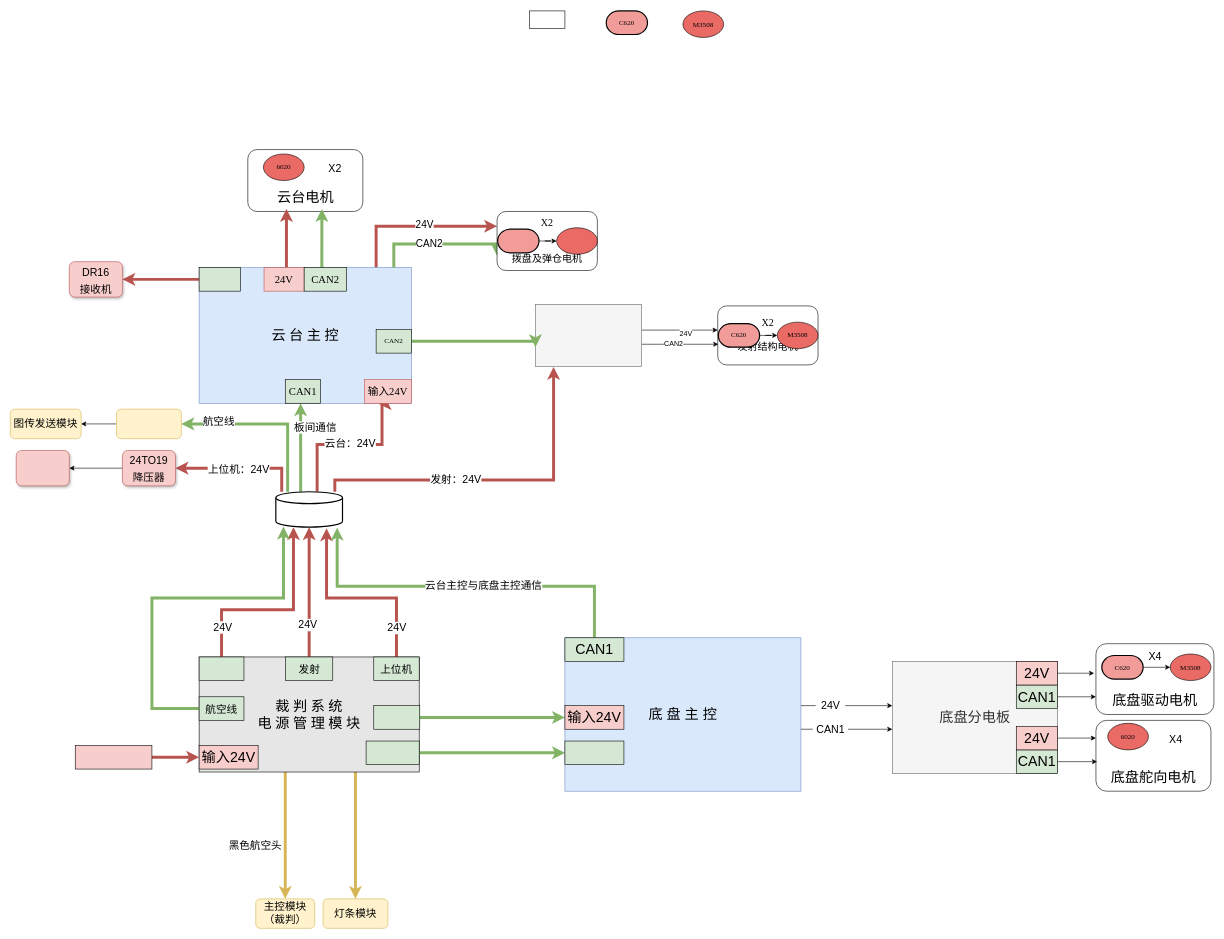
Some shapes in this 1224 by 939 pixel diagram are drawn without their labels. Each missing label, with the centre of its shape:
C610: (x=518, y=240)
DBUS: (x=219, y=279)
M2006: (x=576, y=240)
NUC 上位机: (x=43, y=469)
TB47电池: (x=113, y=757)
USART1: (x=594, y=752)
云台: (x=221, y=668)
发射机构分电板: (x=588, y=335)
底盘: (x=396, y=717)
测速模块: (x=148, y=424)
滑环: (x=309, y=509)
裁判串口: (x=392, y=752)
